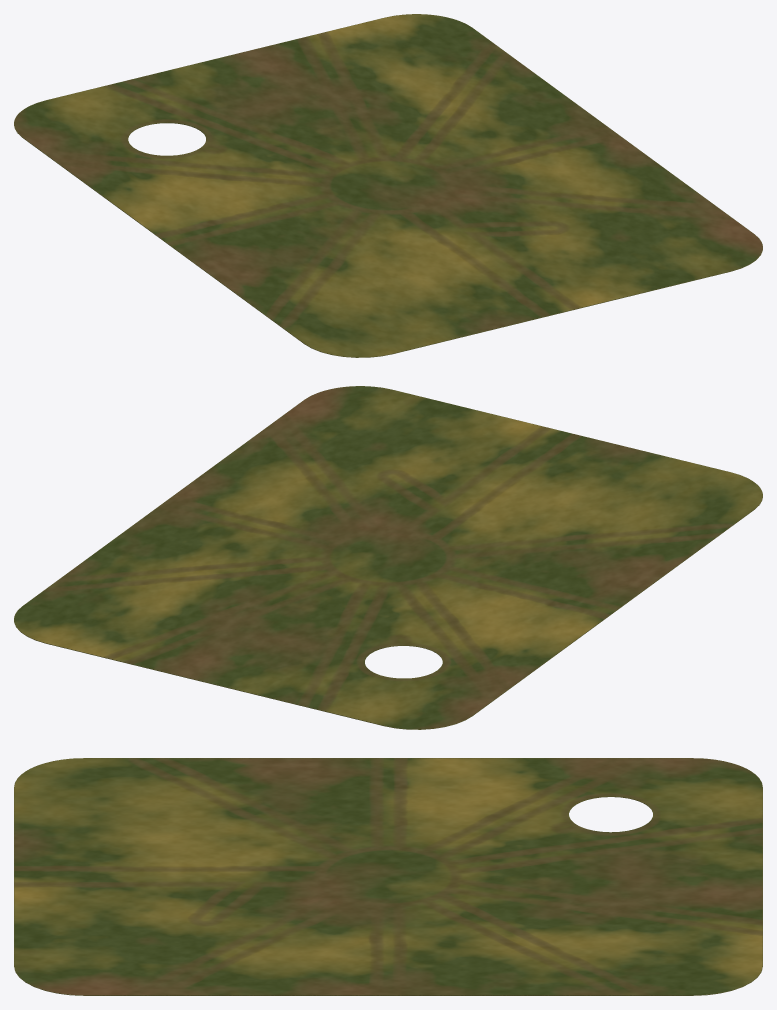
File: HubCommonsGround.fbx
The picture shows the model from 3 angles, top to bottom: view 1: azimuth 30°, elevation 25°; view 2: azimuth 150°, elevation 25°; view 3: azimuth 270°, elevation 25°; orthographic projection. The views are drawn at different scales.
Parts seen in each view (by area): view 1: HubCommons_PathWeathering, HubCommons_MeadowFloor; view 2: HubCommons_PathWeathering, HubCommons_MeadowFloor; view 3: HubCommons_PathWeathering, HubCommons_MeadowFloor.
Boxes of the visible parts, left/top/right/bottom form: HubCommons_PathWeathering: left=14, top=14, right=762, bottom=357; HubCommons_MeadowFloor: left=14, top=14, right=762, bottom=357; HubCommons_PathWeathering: left=14, top=386, right=762, bottom=729; HubCommons_MeadowFloor: left=14, top=386, right=762, bottom=729; HubCommons_PathWeathering: left=14, top=758, right=762, bottom=995; HubCommons_MeadowFloor: left=14, top=758, right=762, bottom=995.
Size of the model in its own units: 479 by 0.3921 by 639.
2 materials, 2 textured.
